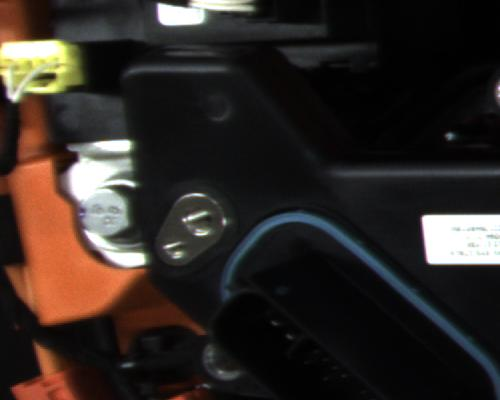nut_b: (66, 171, 139, 254)
